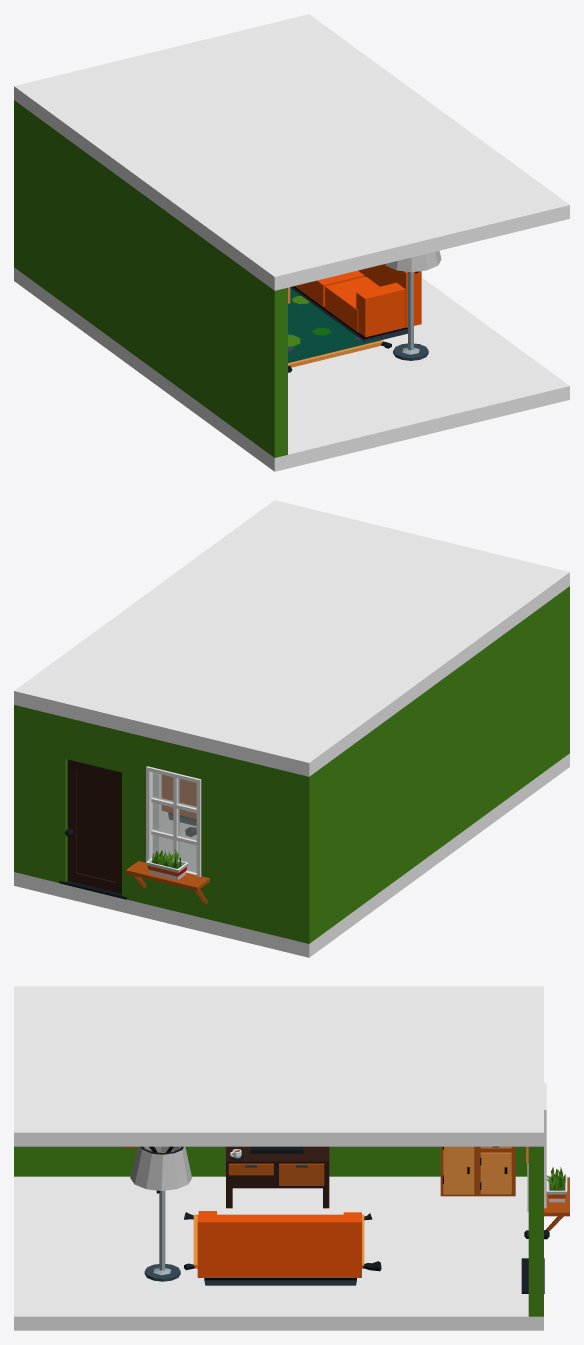
The model's file is livingroom-simple.obj.
3 views of the same model, one above another, from view 1: azimuth 30°, elevation 25°; view 2: azimuth 150°, elevation 25°; view 3: azimuth 270°, elevation 25° (orthographic).
Visible parts, largest first — view 1: group265941632.002, group1087830502, group265941632, group1778046054, group200242231, group1158721303; view 2: group265941632.002, group1087830502, group878316936, group265941632, group1702814703, group2131969357, group1329124018, group1778046054, group2106700541; view 3: group265941632.002, group265941632, group1778046054, group1087830502, group1075457678, group1158721303, group878316936, group150326201, group2106815196, group235268298, group200242231, group2106700541 (+2 smaller).
Part boxes in pixels (x1,y1,x2,y2): group265941632.002: [14, 14, 569, 290]; group1087830502: [14, 100, 290, 457]; group265941632: [14, 267, 569, 471]; group1778046054: [290, 264, 421, 341]; group200242231: [288, 288, 391, 372]; group1158721303: [384, 250, 441, 360]; group265941632.002: [14, 500, 569, 776]; group1087830502: [296, 586, 569, 943]; group878316936: [14, 705, 295, 940]; group265941632: [14, 753, 569, 957]; group1702814703: [65, 759, 121, 893]; group2131969357: [146, 766, 201, 876]; group1329124018: [125, 861, 209, 903]; group1778046054: [162, 775, 196, 825]; group2106700541: [146, 849, 188, 880]; group265941632.002: [14, 986, 543, 1146]; group265941632: [14, 1176, 543, 1330]; group1778046054: [197, 1211, 361, 1285]; group1087830502: [14, 1146, 527, 1176]; group1075457678: [226, 1146, 329, 1208]; group1158721303: [130, 1146, 191, 1281]; group878316936: [526, 1146, 543, 1316]; group150326201: [443, 1146, 474, 1194]; group2106815196: [480, 1152, 511, 1194]; group235268298: [440, 1146, 515, 1196]; group200242231: [184, 1212, 381, 1271]; group2106700541: [546, 1167, 567, 1202].
Size of the model in its own units: 2.68 by 1.69 by 4.3.
